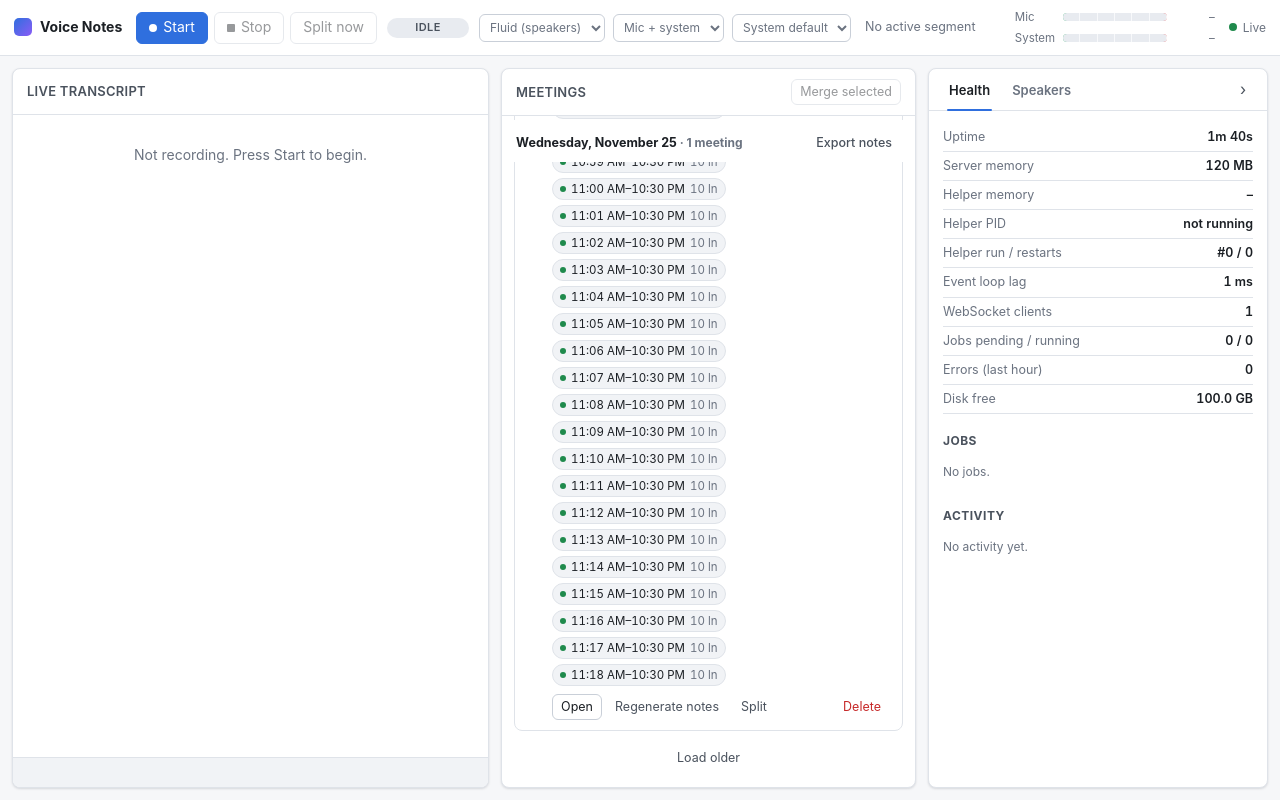
Scenario: App › loads older segments with the meetings the server returns alongside them
(page scrolled)
Click the button "Load older".
click(708, 758)  # box left=668, top=745, right=749, bottom=771
(page scrolled)
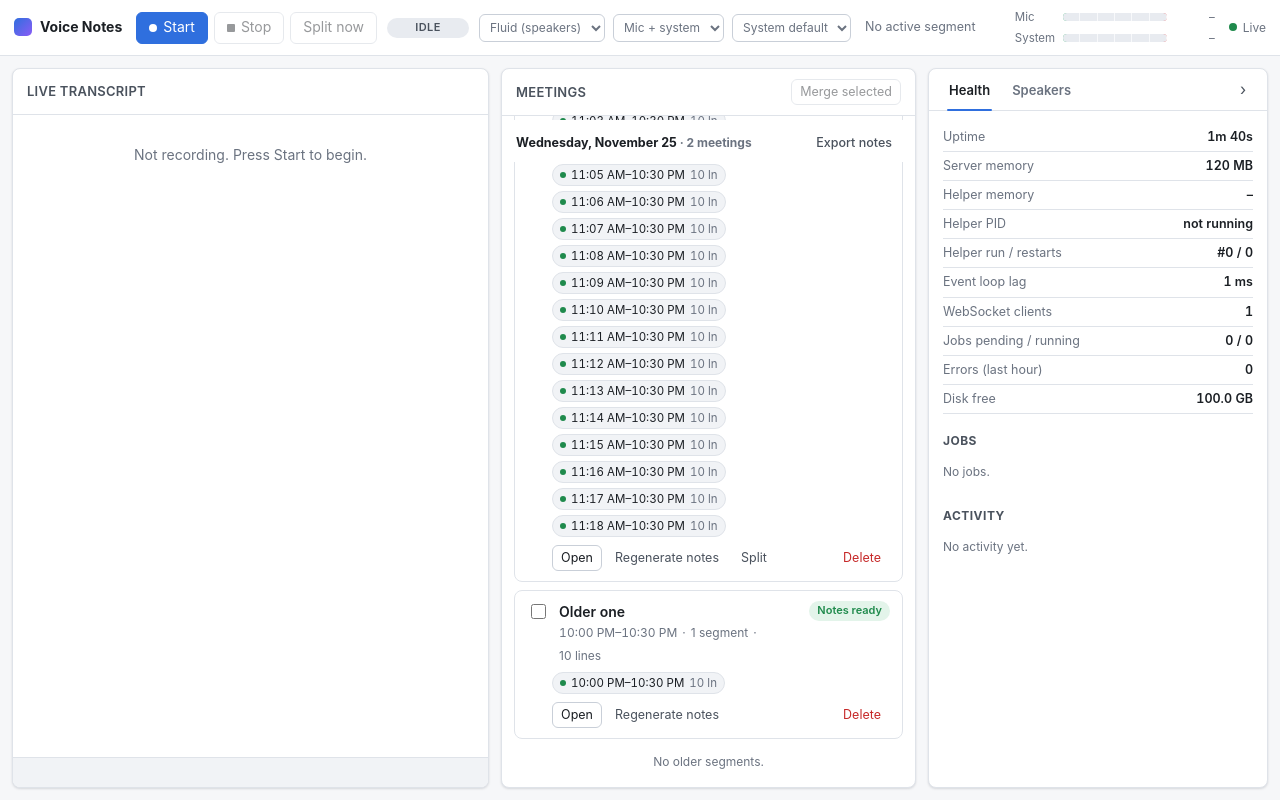
Now the button "Older one" is shown, box left=555, top=601, right=629, bottom=623
Now the number of elements with test id "meeting-card" is 2
Now the text "No older segments." is shown, box left=653, top=753, right=764, bottom=771
